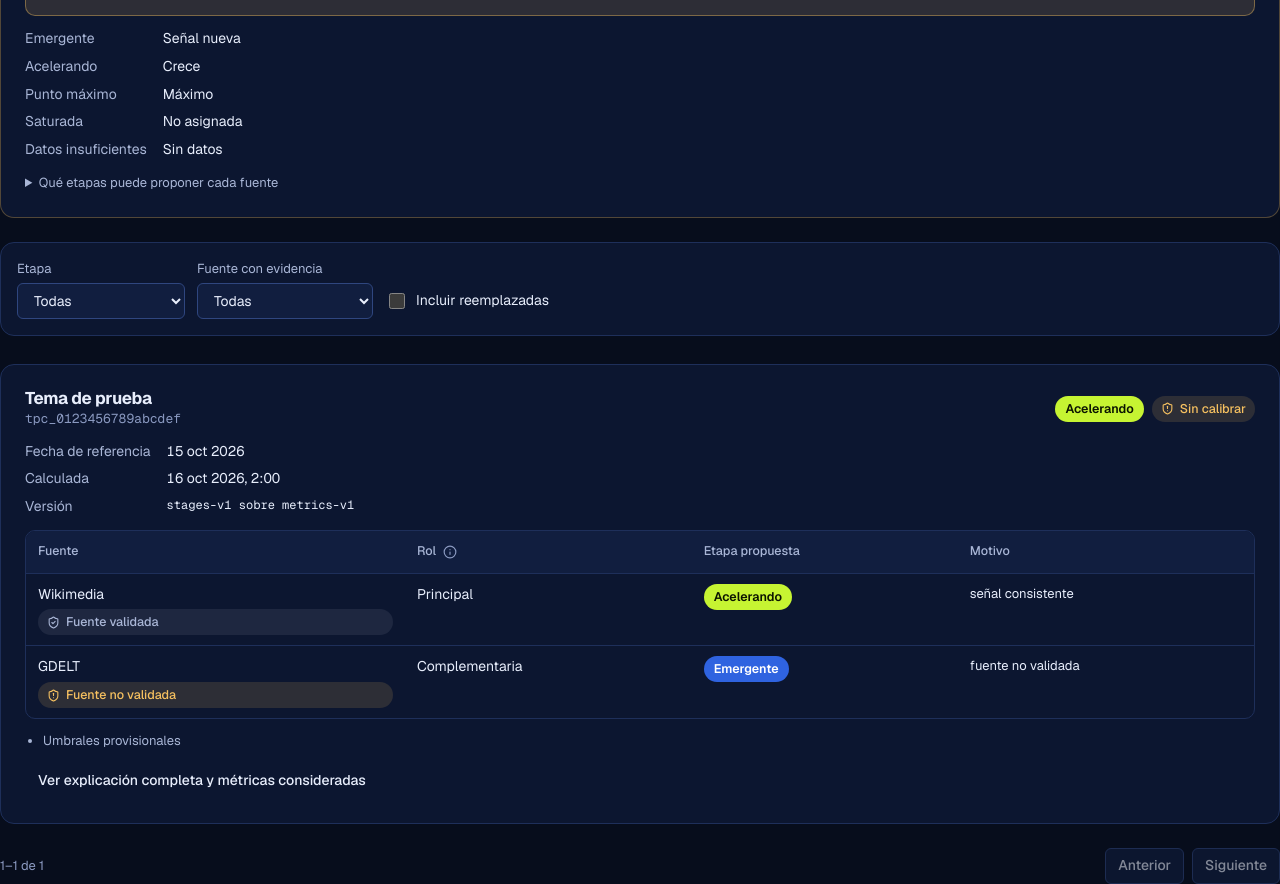
Test case: Clasificaciones › muestra la explicación completa bajo demanda
The image size is (1280, 884).
(page scrolled)
Click the button "Ver explicación completa y métricas consideradas" at (202, 781), box [25,763,379,799]
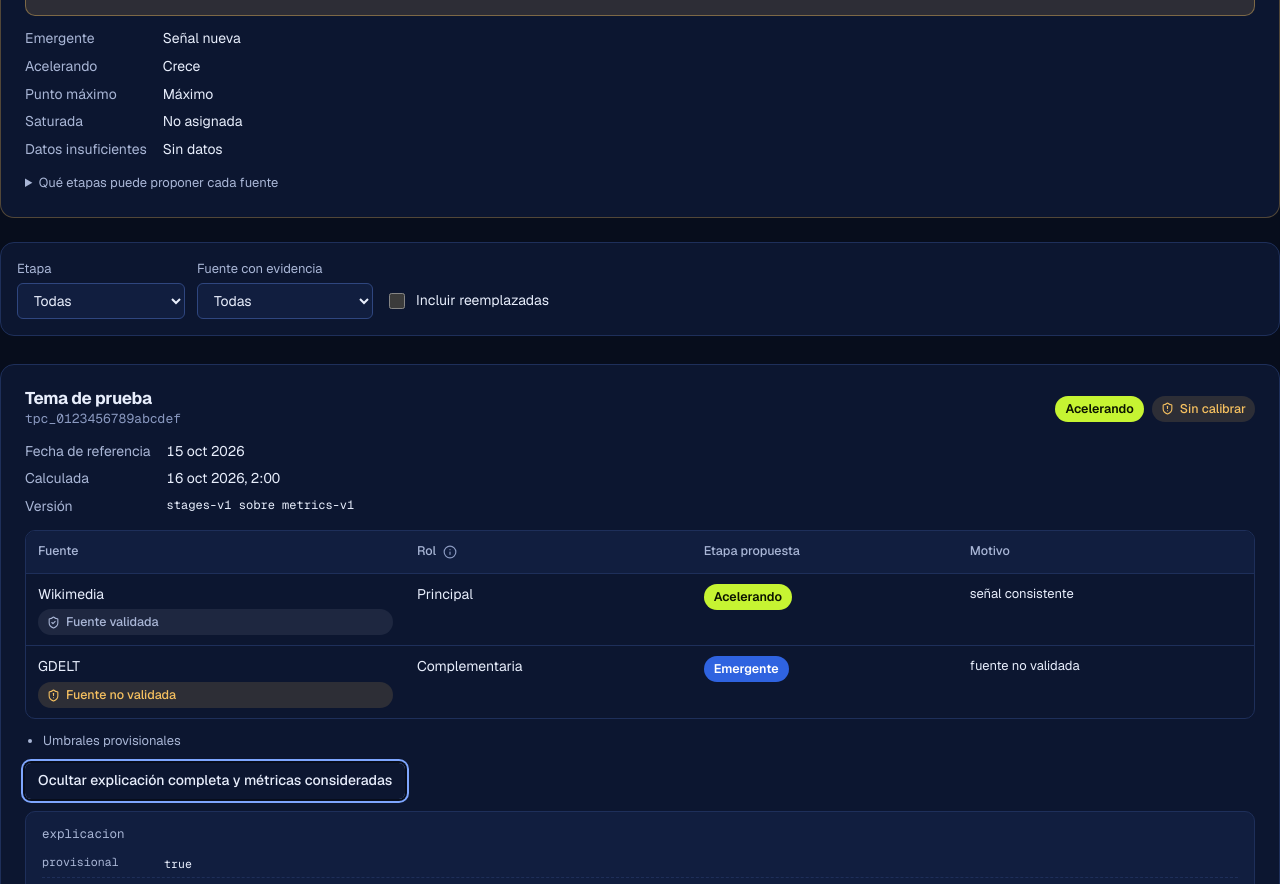
Check: the button named "Ver explicación completa" is expanded, box [25,763,405,799]
Check: the text "explicacion" is shown, box [42,825,124,842]
